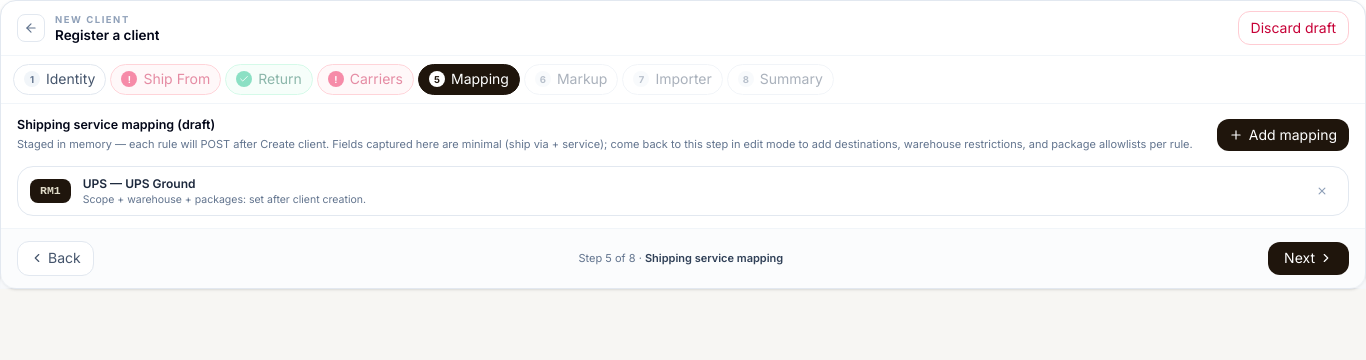
Scenario: MappingDraftStep — create mode positive cases › removes a draft row when its remove button is clicked
Click the button named "Remove RM1" at (1322, 191), box [1308,177,1336,205]
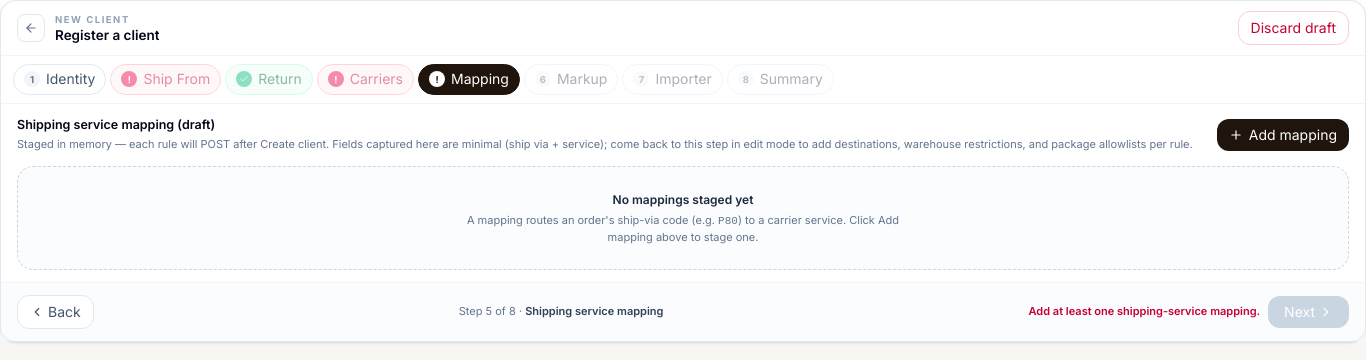
Check: the text "RM1" is gone
Check: the text "No mappings staged yet" is shown, box [613,192,753,207]
